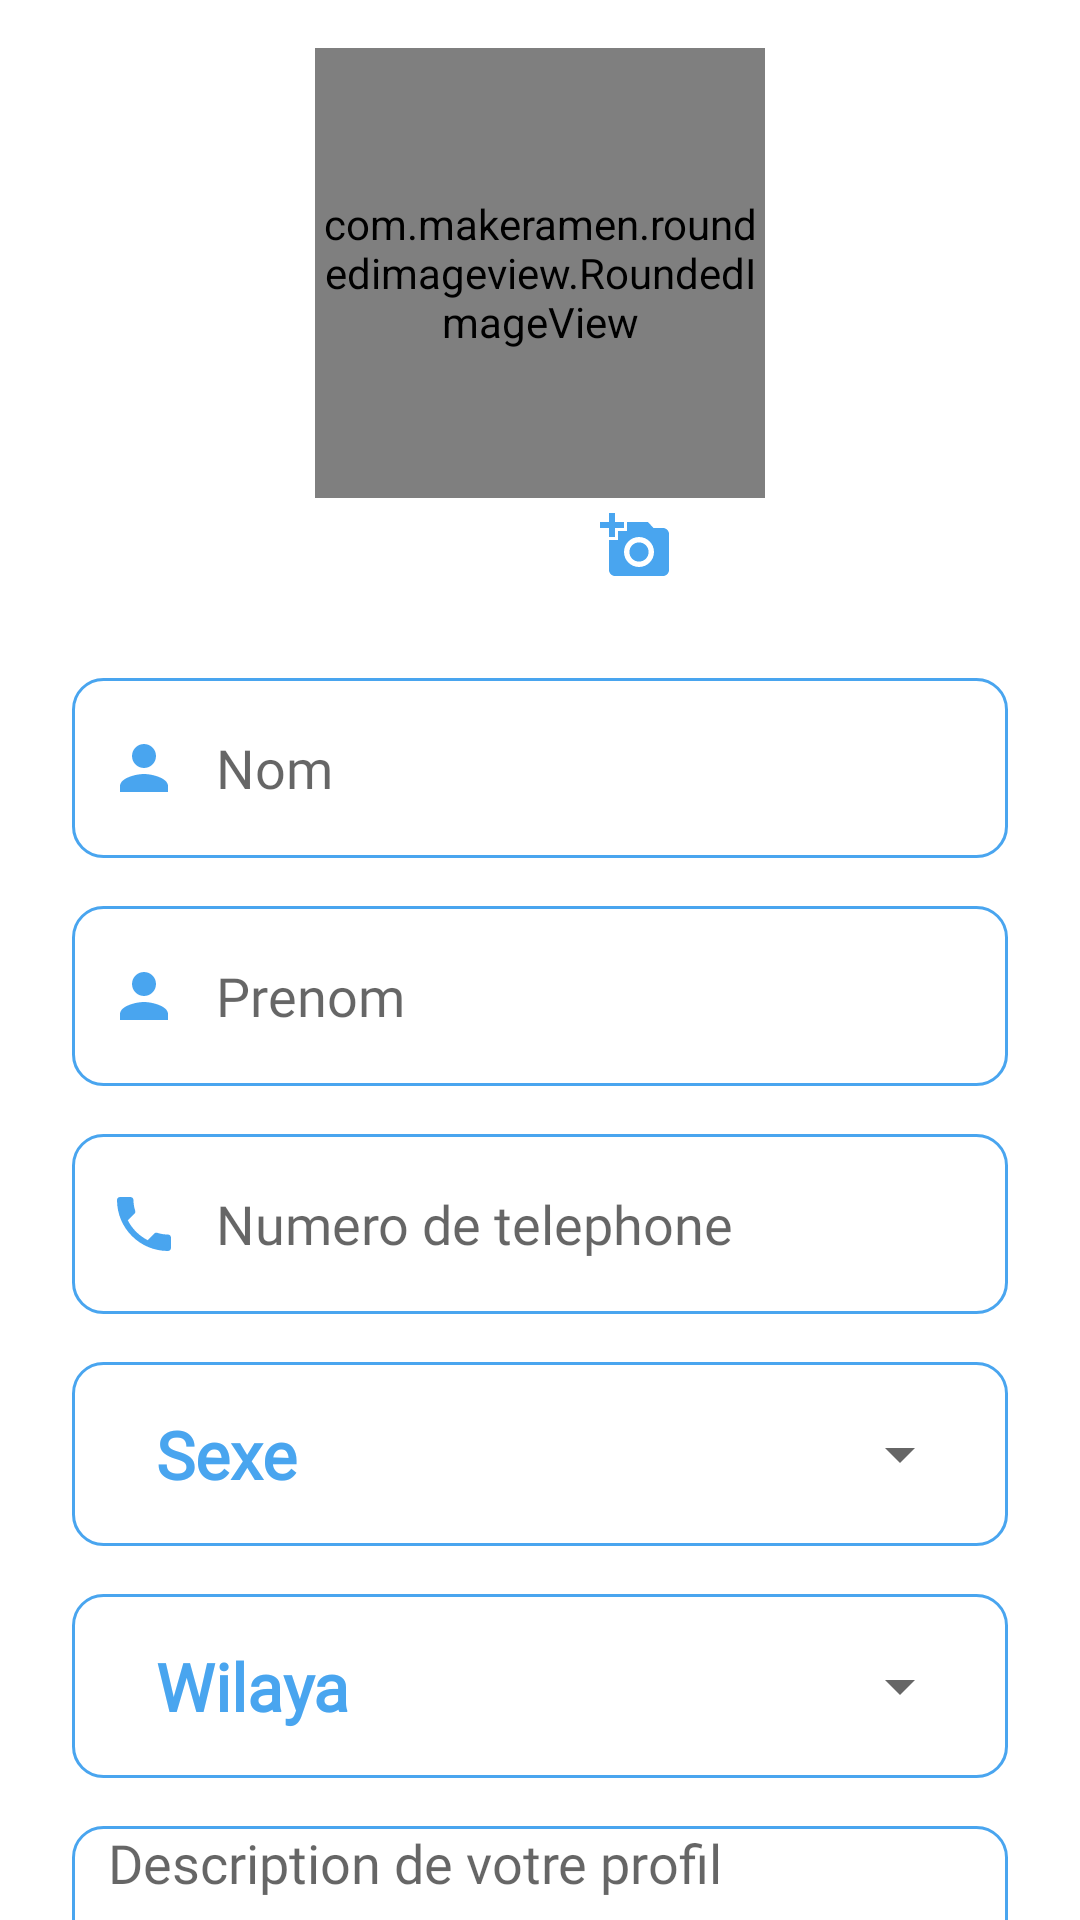

Named icons in this screenshot (1080 × 1920) and their bounding boxes, (x1, y1, x2, y2):
add photo: (600, 513, 669, 576)
